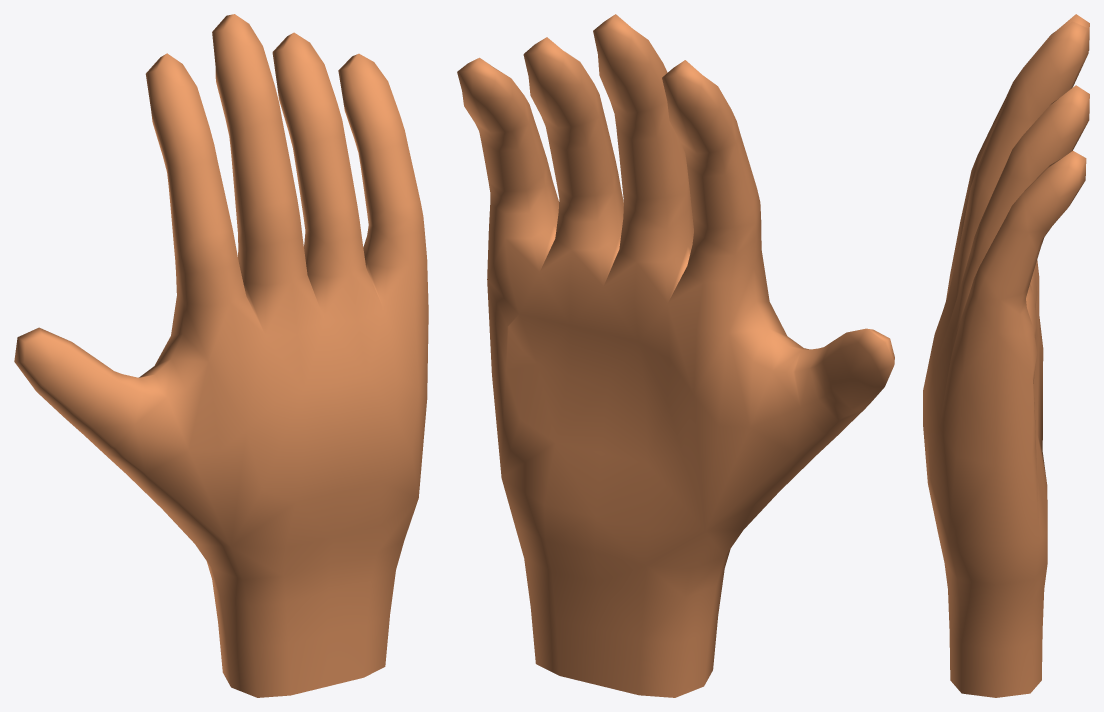
3 renders of one model, left to right at view 1: azimuth 30°, elevation 25°; view 2: azimuth 150°, elevation 25°; view 3: azimuth 270°, elevation 25°, orthographic. The views are drawn at different scales.
Parts seen in each view (by area): view 1: Box002; view 2: Box002; view 3: Box002.
Part boxes in pixels (x1,y1,x2,y2): Box002: (14, 14, 428, 697); Box002: (457, 14, 894, 697); Box002: (923, 14, 1089, 697).
Size of the model in its own units: 113 by 178 by 42.87.
